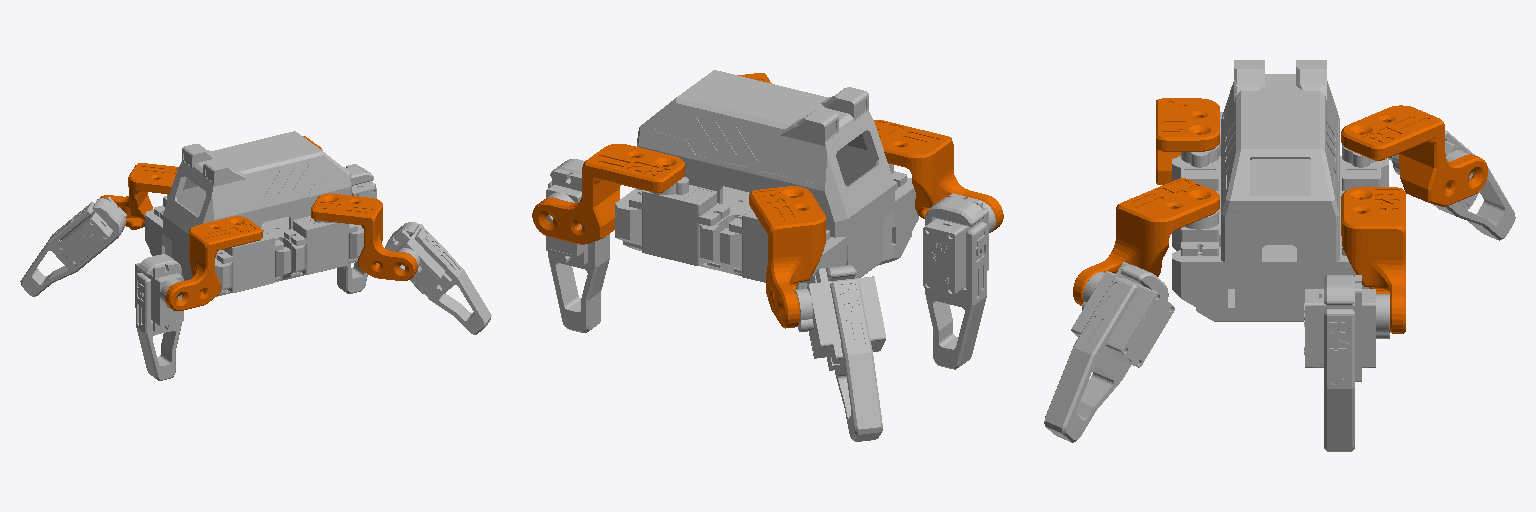
robot.urdf — Sesame:
<?xml version="1.0" encoding="utf-8"?>
<!-- This URDF was automatically created by SolidWorks to URDF Exporter! Originally created by Stephen Brawner (brawner@gmail.com) 
     Commit Version: 1.6.0-4-g7f85cfe  Build Version: 1.6.7995.38578
     For more information, please see http://wiki.ros.org/sw_urdf_exporter -->
<robot
  name="Sesame">
  <link
    name="base_link">
    <inertial>
      <origin
        xyz="-0.02315 -0.020775 -0.024241"
        rpy="0 0 0" />

      <mass
        value="0.15129" />
      <inertia
        ixx="3.2538E-05"
        ixy="-3.9109E-07"
        ixz="6.7231E-07"
        iyy="7.4093E-05"
        iyz="1.8160E-08"
        izz="9.8109E-05" />

    </inertial>
    <visual>
      <origin
        xyz="0 0 0"
        rpy="0 0 0" />
      <geometry>
        <mesh
          filename="package://meshes/base_link.STL" />
      </geometry>
      <material
        name="body_grey">
        <color
          rgba="0.75294 0.75294 0.75294 1" />
      </material>
    </visual>
    <collision>
      <origin
        xyz="0 0 0"
        rpy="0 0 0" />
      <geometry>
        <mesh
          filename="package://meshes/base_link.STL" />
      </geometry>
    </collision>
  </link>
  <link
    name="Link_L2">
    <inertial>
      <origin
        xyz="-0.0064601 -0.010609 0.017387"
        rpy="0 0 0" />
      <mass
        value="0.0053136" />
      <inertia
        ixx="1.056E-06"
        ixy="-1.1324E-07"
        ixz="8.9262E-08"
        iyy="7.5402E-07"
        iyz="3.5604E-07"
        izz="6.3205E-07" />
    </inertial>
    <visual>
      <origin
        xyz="0 0 0"
        rpy="0 0 0" />
      <geometry>
        <mesh
          filename="package://meshes/Link_L2.STL" />
      </geometry>
      <material
        name="hip_orange">
        <color
          rgba="0.9098 0.44314 0.031373 1" />
      </material>
    </visual>
    <collision>
      <origin
        xyz="0 0 0"
        rpy="0 0 0" />
      <geometry>
        <mesh
          filename="package://meshes/Link_L2.STL" />
      </geometry>
    </collision>
  </link>
  <joint
    name="Joint_L2"
    type="revolute">
    <origin
      xyz="0.00069097 -0.046289 -0.0043597"
      rpy="1.5708 0 -1.5708" />
    <parent
      link="base_link" />
    <child
      link="Link_L2" />
    <axis
      xyz="0 1 0" />
    <limit
      lower="1.5707963267948966"
      upper="3.14"
      effort="0.215"
      velocity="10.47" />
    <dynamics
      damping="0.001"
      friction="0.001" />    
  </joint>
  <link
    name="Link_L4">
    <inertial>
      <origin
        xyz="0.0059082 -7.7912E-05 0.009868"
        rpy="0 0 0" />
      <mass
        value="0.01181" />
      <inertia
        ixx="1.9935E-06"
        ixy="-2.5385E-10"
        ixz="-3.4665E-09"
        iyy="1.8226E-06"
        iyz="-2.919E-09"
        izz="3.4325E-07" />
    </inertial>
    <visual>
      <origin
        xyz="0 0 0"
        rpy="0 0 0" />
      <geometry>
        <mesh
          filename="package://meshes/Link_L4.STL" />
      </geometry>
      <material
        name="leg_grey">
        <color
          rgba="0.75294 0.75294 0.75294 1" />
      </material>
    </visual>
    <collision>
      <origin
        xyz="0 0 0"
        rpy="0 0 0" />
      <geometry>
        <mesh
          filename="package://meshes/Link_L4.STL" />
      </geometry>
    </collision>
  </link>
  <joint
    name="Joint_L4"
    type="revolute">
    <origin
      xyz="0 -0.02413 0.03683"
      rpy="-1.5707963267948966 0 0" />
    <parent
      link="Link_L2" />
    <child
      link="Link_L4" />
    <axis
      xyz="1 0 0" />
    <limit
      lower="1.5707963267948966"
      upper="3.1415"
      effort="0.215"
      velocity="10.47" />
    <dynamics
      damping="0.001"
      friction="0.001" />
  </joint>
  <link
    name="Link_L1">
    <inertial>
      <origin
        xyz="-0.006401 -0.010603 -0.017401"
        rpy="0 0 0" />
      <mass
        value="0.0053164" />
      <inertia
        ixx="1.0579E-06"
        ixy="-1.1187E-07"
        ixz="-8.7687E-08"
        iyy="7.5501E-07"
        iyz="-3.5692E-07"
        izz="6.3179E-07" />
    </inertial>
    <visual>
      <origin
        xyz="0 0 0"
        rpy="0 0 0" />
      <geometry>
        <mesh
          filename="package://meshes/Link_L1.STL" />
      </geometry>
      <material
        name="hip_orange">
        <color
          rgba="0.9098 0.44314 0.031373 1" />
      </material>
    </visual>
    <collision>
      <origin
        xyz="0 0 0"
        rpy="0 0 0" />
      <geometry>
        <mesh
          filename="package://meshes/Link_L1.STL" />
      </geometry>
    </collision>
  </link>
  <joint
    name="Joint_L1"
    type="revolute">
    <origin
      xyz="-0.047709 -0.046289 -0.0043597"
      rpy="1.5708 0 1.5708" />
    <parent
      link="base_link" />
    <child
      link="Link_L1" />
    <axis
      xyz="0 1 0" />
    <limit
      lower="0"
      upper="1.5707963267948966"
      effort="0.215"
      velocity="10.47" />
    <dynamics
      damping="0.001"
      friction="0.001" />
  </joint>
  <link
    name="Link_L3">
    <inertial>
      <origin
        xyz="0.0046158 -0.00016469 -0.010021"
        rpy="0 0 0" />
      <mass
        value="0.011791" />
      <inertia
        ixx="1.9892E-06"
        ixy="2.3192E-10"
        ixz="9.6413E-09"
        iyy="1.82E-06"
        iyz="-6.1241E-09"
        izz="3.4158E-07" />
    </inertial>
    <visual>
      <origin
        xyz="0 0 0"
        rpy="0 0 0" />
      <geometry>
        <mesh
          filename="package://meshes/Link_L3.STL" />
      </geometry>
      <material
        name="leg_grey">
        <color
          rgba="0.75294 0.75294 0.75294 1" />
      </material>
    </visual>
    <collision>
      <origin
        xyz="0 0 0"
        rpy="0 0 0" />
      <geometry>
        <mesh
          filename="package://meshes/Link_L3.STL" />
      </geometry>
    </collision>
  </link>
  <joint
    name="Joint_L3"
    type="revolute">
    <origin
      xyz="0.0014515 -0.02413 -0.036658"
      rpy="-1.5708 0 0" />
    <parent
      link="Link_L1" />
    <child
      link="Link_L3" />
    <axis
      xyz="1 0 0" />
    <limit
      lower="0"
      upper="1.5707963267948966"
      effort="0.215"
      velocity="10.47" />
    <dynamics
      damping="0.001"
      friction="0.001" />
  </joint>
  <link
    name="Link_R1">
    <inertial>
      <origin
        xyz="-0.0064016 -0.010612 0.017415"
        rpy="0 0 0" />
      <mass
        value="0.005312" />
      <inertia
        ixx="1.0561E-06"
        ixy="-1.1184E-07"
        ixz="8.7674E-08"
        iyy="7.5371E-07"
        iyz="3.5614E-07"
        izz="6.3131E-07" />
    </inertial>
    <visual>
      <origin
        xyz="0 0 0"
        rpy="0 0 0" />
      <geometry>
        <mesh
          filename="package://meshes/Link_R1.STL" />
      </geometry>
      <material
        name="hip_orange">
        <color
          rgba="0.9098 0.44314 0.031373 1" />
      </material>
    </visual>
    <collision>
      <origin
        xyz="0 0 0"
        rpy="0 0 0" />
      <geometry>
        <mesh
          filename="package://meshes/Link_R1.STL" />
      </geometry>
    </collision>
  </link>
  <joint
    name="Joint_R1"
    type="revolute">
    <origin
      xyz="-0.047709 0.0045112 -0.0043597"
      rpy="1.5708 0 1.5708" />
    <parent
      link="base_link" />
    <child
      link="Link_R1" />
    <axis
      xyz="0 1 0" />
    <limit
      lower="1.5707963267948966"
      upper="3.1415"
      effort="0.215"
      velocity="10.47" />
    <dynamics
      damping="0.001"
      friction="0.001" />
  </joint>
  <link
    name="Link_R3">
    <inertial>
      <origin
        xyz="0.00607 -0.00014231 0.0098498"
        rpy="0 0 0" />
      <mass
        value="0.01181" />
      <inertia
        ixx="1.9921E-06"
        ixy="3.118E-12"
        ixz="-9.526E-09"
        iyy="1.8205E-06"
        iyz="8.2033E-09"
        izz="3.4408E-07" />
    </inertial>
    <visual>
      <origin
        xyz="0 0 0"
        rpy="0 0 0" />
      <geometry>
        <mesh
          filename="package://meshes/Link_R3.STL" />
      </geometry>
      <material
        name="leg_grey">
        <color
          rgba="0.75294 0.75294 0.75294 1" />
      </material>
    </visual>
    <collision>
      <origin
        xyz="0 0 0"
        rpy="0 0 0" />
      <geometry>
        <mesh
          filename="package://meshes/Link_R3.STL" />
      </geometry>
    </collision>
  </link>
  <joint
    name="Joint_R3"
    type="revolute">
    <origin
      xyz="0 -0.02413 0.03683"
      rpy="-1.5707963267948966 0 0" />
    <parent
      link="Link_R1" />
    <child
      link="Link_R3" />
    <axis
      xyz="1 0 0" />
    <limit
      lower="1.5707963267948966"
      upper="3.1415"
      effort="0.215"
      velocity="10.47" />
    <dynamics
      damping="0.001"
      friction="0.001" />
  </joint>
  <link
    name="Link_R2">
    <inertial>
      <origin
        xyz="-0.0063919 -0.010646 -0.017449"
        rpy="0 0 0" />
      <mass
        value="0.0052948" />
      <inertia
      ixx="1.056E-06"
      ixy="-1.1324E-07"
      ixz="-8.7687E-08"
      iyy="7.5402E-07"
      iyz="-3.5692E-07"
      izz="6.3131E-07" />
    </inertial>
    <visual>
      <origin
        xyz="0 0 0"
        rpy="0 0 0" />
      <geometry>
        <mesh
          filename="package://meshes/Link_R2.STL" />
      </geometry>
      <material
        name="hip_orange">
        <color
          rgba="0.9098 0.44314 0.031373 1" />
      </material>
    </visual>
    <collision>
      <origin
        xyz="0 0 0"
        rpy="0 0 0" />
      <geometry>
        <mesh
          filename="package://meshes/Link_R2.STL" />
      </geometry>
    </collision>
  </link>
  <joint
    name="Joint_R2"
    type="revolute">
    <origin
      xyz="0.00069097 0.0045112 -0.0043597"
      rpy="1.5708 0 -1.5708" />
    <parent
      link="base_link" />
    <child
      link="Link_R2" />
    <axis
      xyz="0 1 0" />
    <limit
      lower="0"
      upper="1.5707963267948966"
      effort="0.215"
      velocity="10.47" />
    <dynamics
      damping="0.001"
      friction="0.001" />
  </joint>
  <link
    name="Link_R4">
    <inertial>
      <origin
        xyz="0.0045634 -7.1454E-05 -0.0097604"
        rpy="0 0 0" />
      <mass
        value="0.011795" />
      <inertia
        ixx="1.9887E-06"
        ixy="-9.8963E-11"
        ixz="9.472E-09"
        iyy="1.8185E-06"
        iyz="5.6077E-09"
        izz="3.427E-07" />
    </inertial>
    <visual>
      <origin
        xyz="0 0 0"
        rpy="0 0 0" />
      <geometry>
        <mesh
          filename="package://meshes/Link_R4.STL" />
      </geometry>
      <material
        name="leg_grey">
        <color
          rgba="0.75294 0.75294 0.75294 1" />
      </material>
    </visual>
    <collision>
      <origin
        xyz="0 0 0"
        rpy="0 0 0" />
      <geometry>
        <mesh
          filename="package://meshes/Link_R4.STL" />
      </geometry>
    </collision>
  </link>
  <joint
    name="Joint_R4"
    type="revolute">
    <origin
      xyz="0.0015058 -0.02413 -0.036923"
      rpy="-1.5707963267948966 0 0" />
    <parent
      link="Link_R2" />
    <child
      link="Link_R4" />
    <axis
      xyz="1 0 0" />
    <limit
      lower="0"
      upper="1.5707963267948966"
      effort="0.215"
      velocity="10.47" />
    <dynamics
      damping="0.001"
      friction="0.001" />
  </joint>
</robot>

--- Render facts (derived) ---
Views: 3 orthographic renders of the robot side by side, from view 1: azimuth 30°, elevation 25°; view 2: azimuth 150°, elevation 25°; view 3: azimuth 270°, elevation 25°.
Robot: Sesame — 9 links, 8 joints (8 revolute); root link base_link; default pose: joints at zero except 4 at the middle of their limits (Joint_L2 = 2.36, Joint_L4 = 2.36, Joint_R1 = 2.36, Joint_R3 = 2.36).
Visible links, largest first — view 1: base_link, Link_L4, Link_L3, Link_R3, Link_L1, Link_L2, Link_R1, Link_R4; view 2: base_link, Link_R3, Link_L3, Link_R2, Link_R1, Link_R4, Link_L1; view 3: base_link, Link_L4, Link_R4, Link_R1, Link_R2, Link_L2, Link_L1, Link_R3.
Link boxes in pixels (x1,y1,x2,y2): base_link: [145, 131, 363, 296]; Link_L4: [385, 222, 491, 334]; Link_L3: [135, 254, 183, 380]; Link_R3: [20, 197, 126, 296]; Link_L1: [165, 216, 262, 310]; Link_L2: [311, 193, 417, 280]; Link_R1: [100, 163, 177, 229]; Link_R4: [337, 164, 376, 293]; base_link: [615, 70, 918, 288]; Link_R3: [794, 265, 885, 441]; Link_L3: [923, 193, 995, 369]; Link_R2: [532, 144, 684, 244]; Link_R1: [749, 186, 825, 328]; Link_R4: [546, 159, 609, 332]; Link_L1: [874, 120, 1003, 232]; base_link: [1172, 60, 1388, 321]; Link_L4: [1044, 262, 1174, 442]; Link_R4: [1304, 275, 1389, 451]; Link_R1: [1341, 105, 1487, 206]; Link_R2: [1341, 187, 1405, 333]; Link_L2: [1073, 178, 1219, 305]; Link_L1: [1156, 98, 1219, 184]; Link_R3: [1388, 130, 1515, 240].
Bounding box of the posed robot: 0.1649 × 0.1482 × 0.0934 m (x, y, z).
Meshes: 9 distinct files referenced, 9 mesh visuals loaded (9 binary STL).
